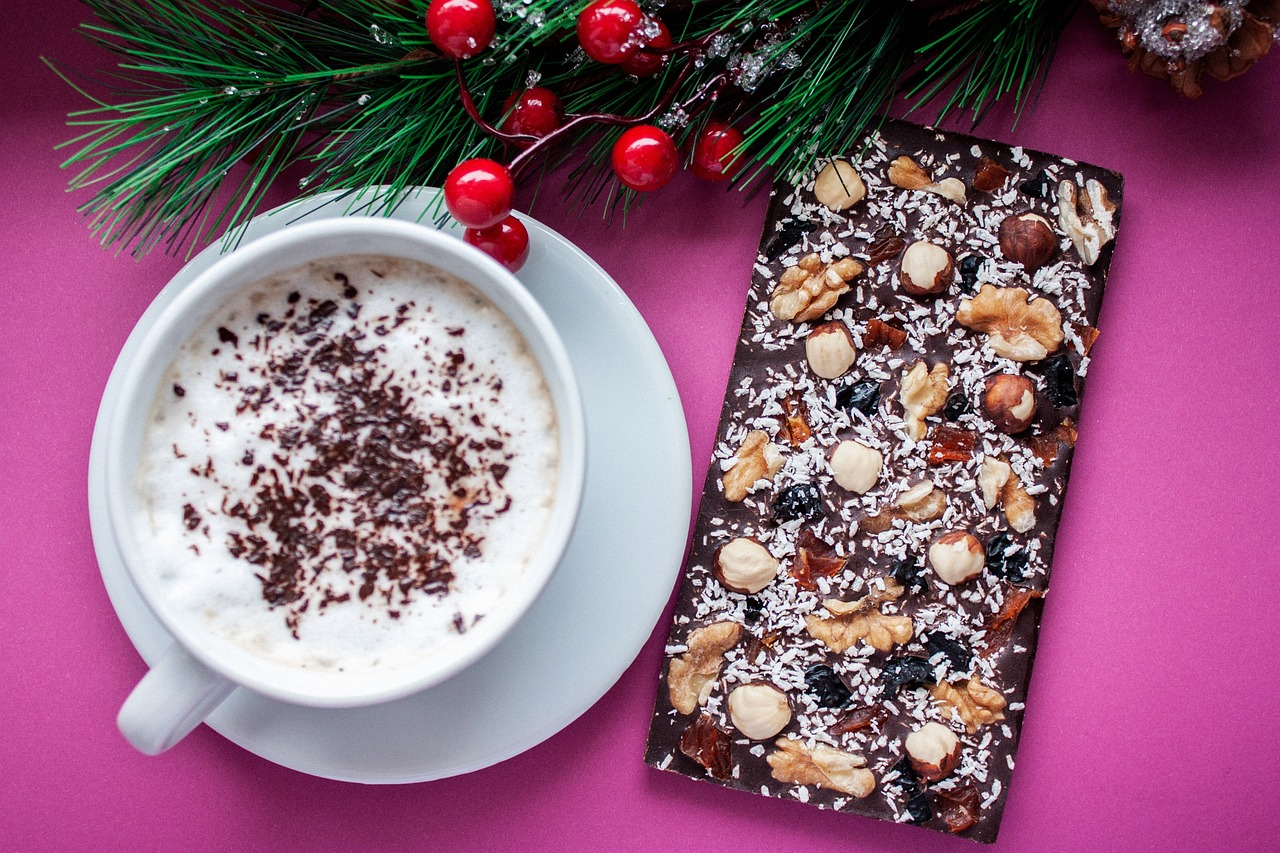mug: (88, 211, 669, 745)
